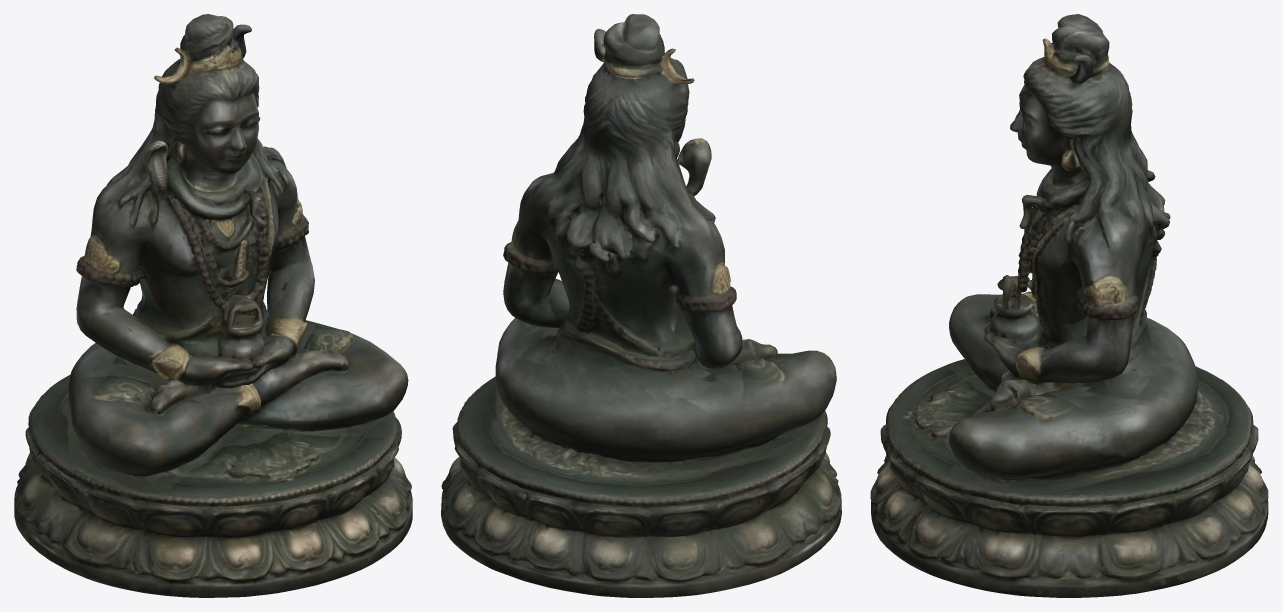
File: shiva.glb
3 renders of one model, left to right at view 1: azimuth 30°, elevation 25°; view 2: azimuth 150°, elevation 25°; view 3: azimuth 270°, elevation 25°, orthographic.
Parts seen in each view (by area): view 1: shiva; view 2: shiva; view 3: shiva.
Part boxes in pixels (box(x1,y1,x2,y2)): shiva: box(14, 14, 412, 597); shiva: box(441, 14, 841, 597); shiva: box(870, 14, 1268, 597).
Size of the model in its own units: 0.3263 by 0.4499 by 0.3272.
1 material, 1 textured.
